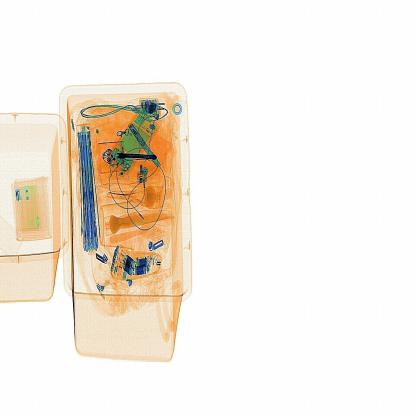knife: (118, 150, 158, 163)
